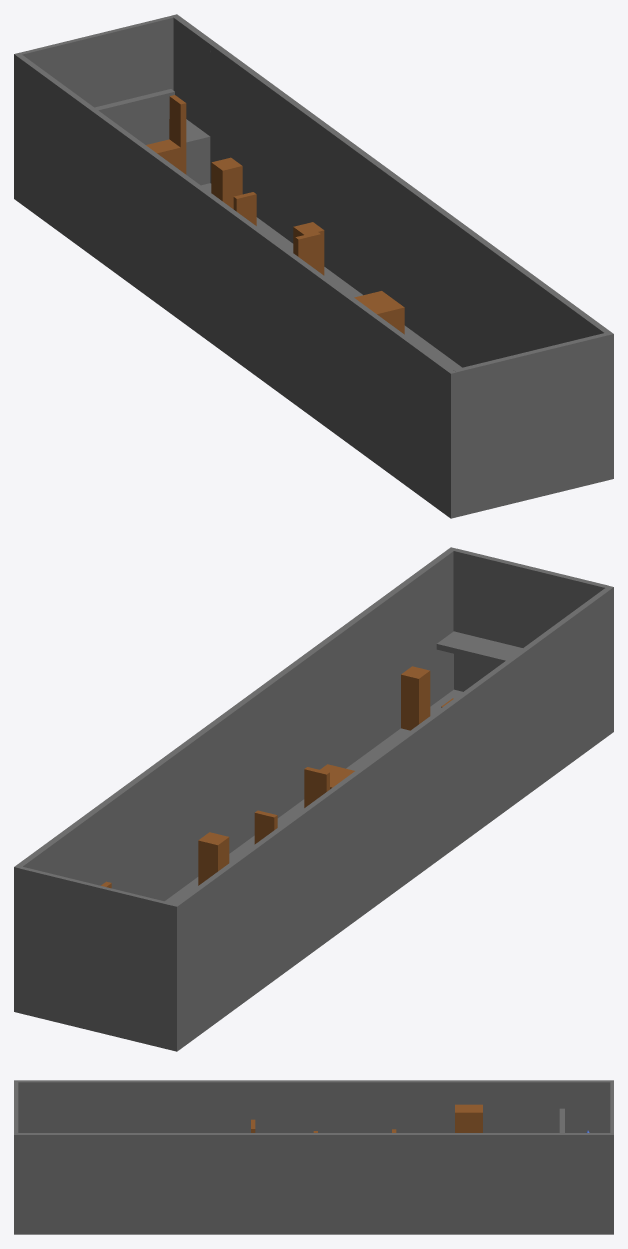
File: ParkourLevel2.fbx
The picture shows the model from 3 angles, top to bottom: view 1: azimuth 30°, elevation 25°; view 2: azimuth 150°, elevation 25°; view 3: azimuth 270°, elevation 25°; orthographic projection. The views are drawn at different scales.
Visible parts, largest first — view 1: Cube, Cube.013, Cube.012, Cube.004, Cube.006; view 2: Cube, Cube.001, Cube.007, Cube.006; view 3: Cube, Cube.010.
Boxes of the visible parts, x1,y1,x2,y2 form: Cube: (14,14,613,518); Cube.013: (146,95,186,174); Cube.012: (211,157,242,208); Cube.004: (354,291,404,334); Cube.006: (295,232,320,272); Cube: (14,547,613,1051); Cube.001: (401,666,430,730); Cube.007: (198,832,229,885); Cube.006: (304,767,329,807); Cube: (14,1080,613,1234); Cube.010: (455,1104,482,1132).
Size of the model in its own units: 1652 by 1404 by 7666.
